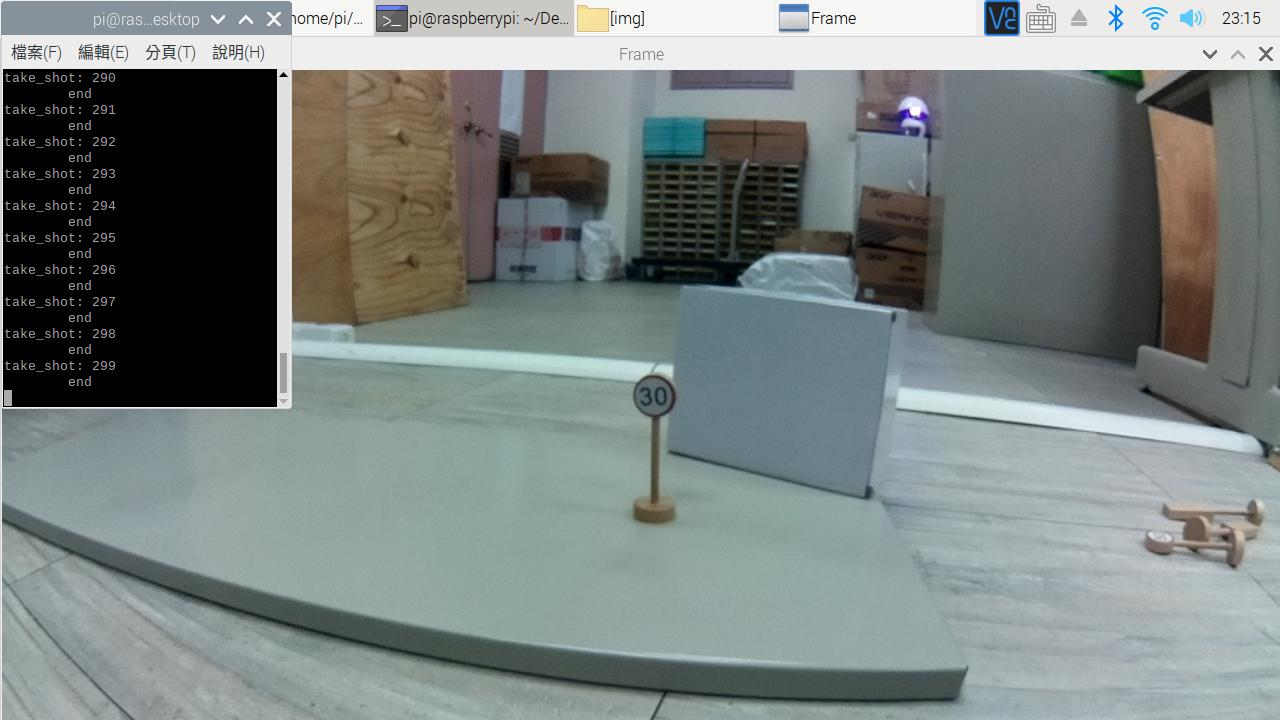Speed30: (622, 372, 687, 438)
